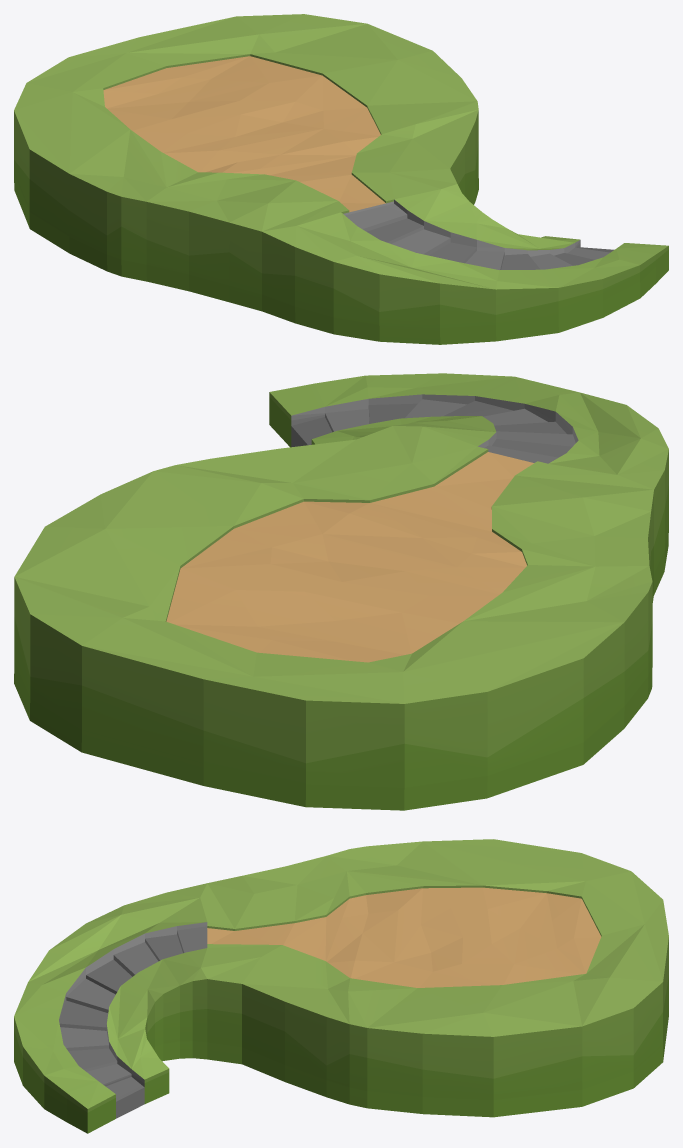
File: japanes island.fbx
3 views of the same model, one above another, from view 1: azimuth 30°, elevation 25°; view 2: azimuth 150°, elevation 25°; view 3: azimuth 270°, elevation 25° (orthographic). The views are drawn at different scales.
Parts seen in each view (by area): view 1: japanes island; view 2: japanes island; view 3: japanes island.
Part boxes in pixels (x1,y1,x2,y2): japanes island: [14, 14, 668, 344]; japanes island: [14, 373, 668, 810]; japanes island: [14, 839, 668, 1133].
Bounding box in the file's own units: 2506 × 462 × 3235.
